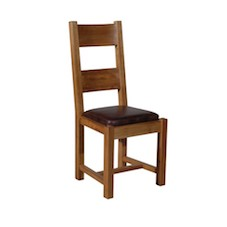chair: (43, 7, 219, 217)
